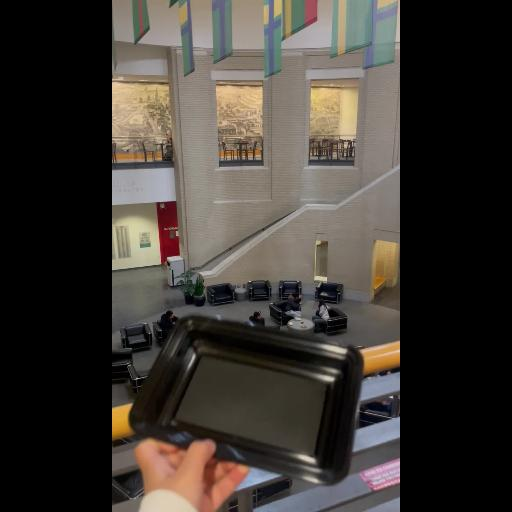rigid_plastic_container: (122, 304, 378, 484)
